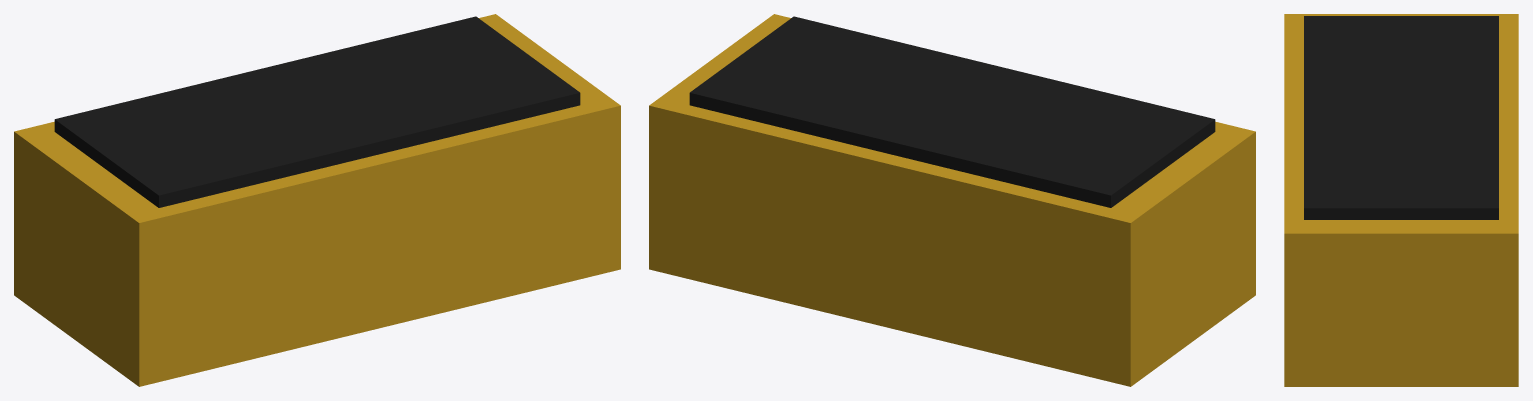
3 views of the same model, side by side, from view 1: azimuth 30°, elevation 25°; view 2: azimuth 150°, elevation 25°; view 3: azimuth 270°, elevation 25° (orthographic). The views are drawn at different scales.
Parts seen in each view (by area): view 1: dr5_rx; view 2: dr5_rx; view 3: dr5_rx.
Boxes of the visible parts, box(x1,y1,x2,y2) form: dr5_rx: box(14, 14, 620, 386); dr5_rx: box(649, 14, 1255, 386); dr5_rx: box(1284, 14, 1518, 386).
Size of the model in its own units: 0.8 by 0.28 by 0.36.
